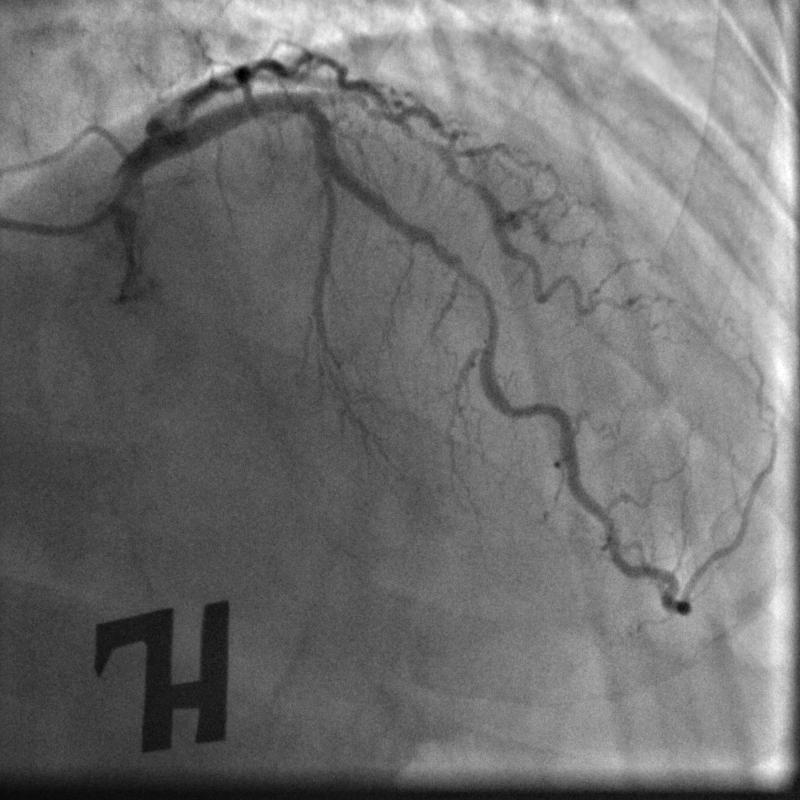Stenosis: (460, 261, 500, 344)
